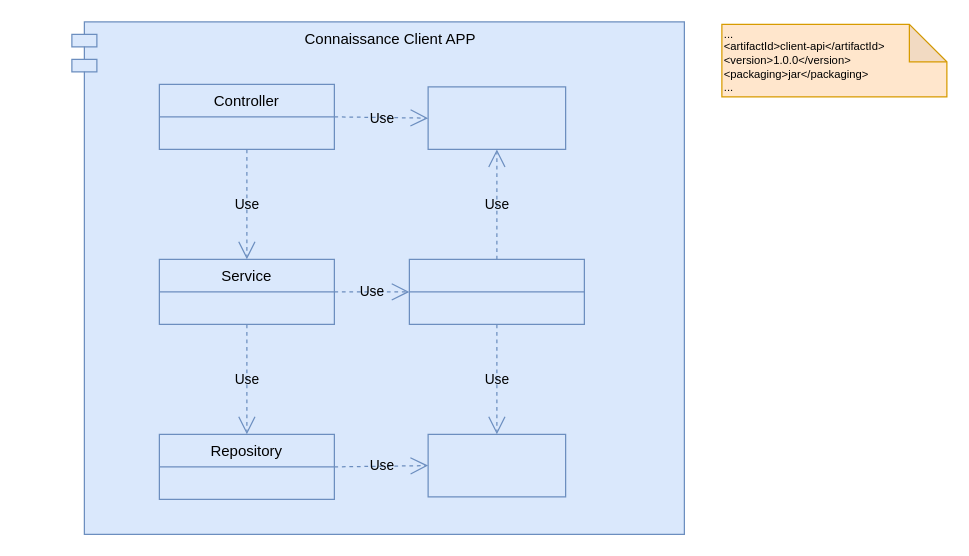
This 969x556 diagram has some shape labels left out. Here are the shapes that lost their labels. From the top down, the box of each, then its label:
(427, 86, 566, 149): DTO
(408, 258, 584, 324): Converter
(427, 433, 566, 497): Entity
